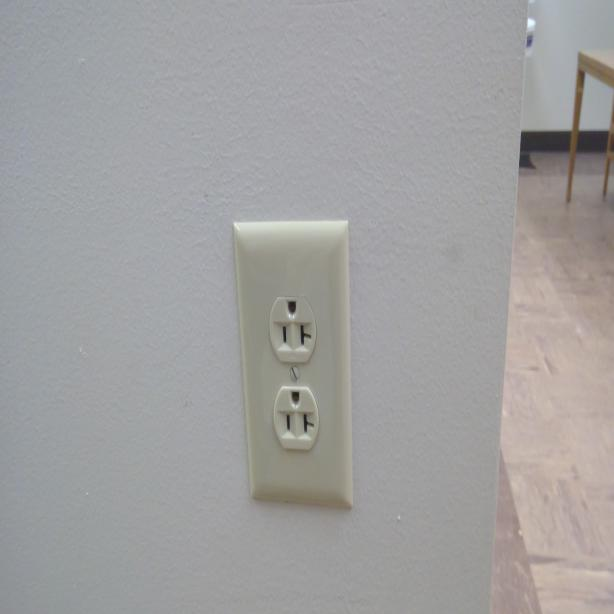typeb: (270, 299, 316, 361), (278, 386, 315, 448)
